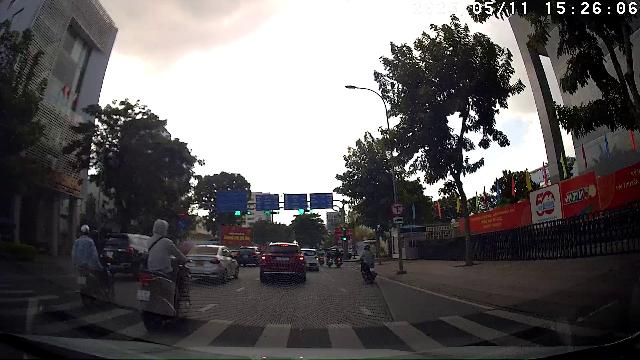137-cam-re-trai-va-re-phai: (391, 202, 404, 216)
